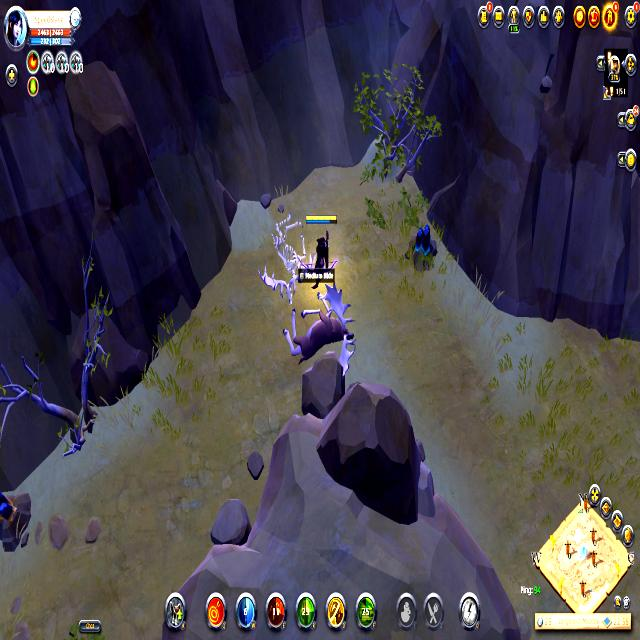ore: (282, 279, 361, 377)
player: (404, 213, 441, 290), (0, 478, 36, 552)
red: (304, 209, 338, 286)
